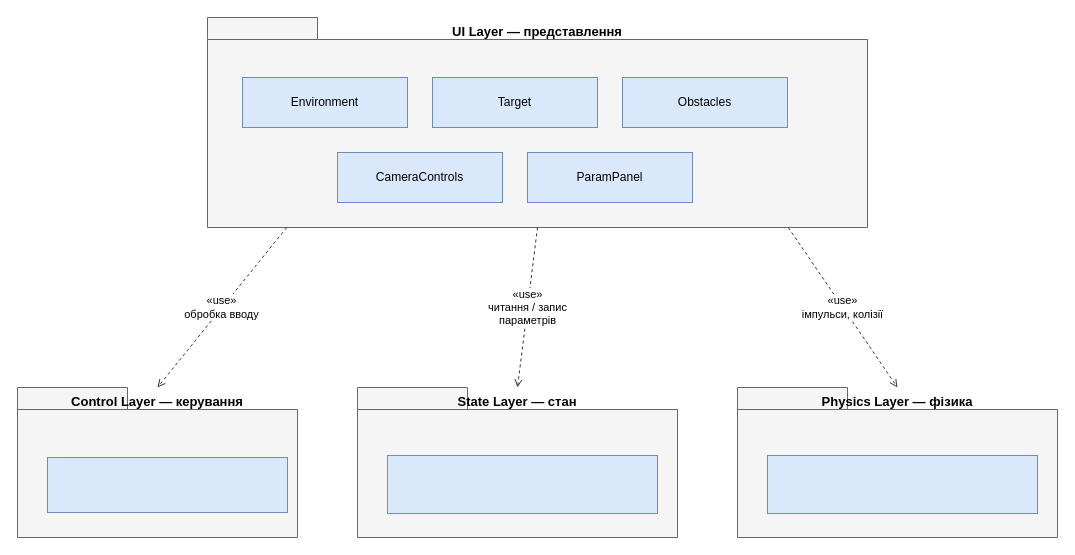
Some shapes in this 1075 by 555 pixel diagram are drawn without their labels. The centre of each missing label's shape, as x and y in pixels:
Rapier @react-three/rapier: pixel 902 484
useKeyboardControls: pixel 167 484
useTargetParams (Zustand + persist): pixel 522 484
